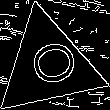O_W: (19, 39, 77, 92)
